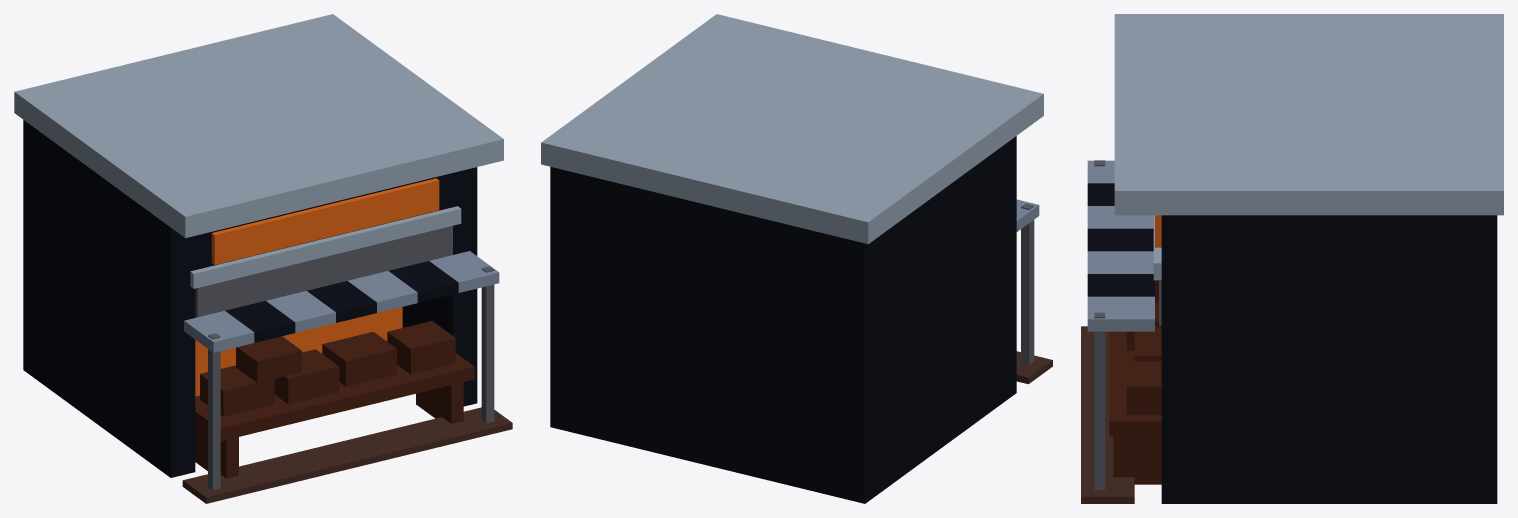
Rendered from shop4.obj.
The picture shows the model from 3 angles, left to right: view 1: azimuth 30°, elevation 25°; view 2: azimuth 150°, elevation 25°; view 3: azimuth 270°, elevation 25°; orthographic projection. The views are drawn at different scales.
Visible parts, largest first — view 1: parapet, shell, crates, stall, pavement, shutter, sign, canopy-stripes-pale, shutter-box, canopy-stripes-dark, canopy-poles, interior; view 2: shell, parapet, canopy-poles, pavement; view 3: shell, parapet, canopy-stripes-pale, stall, pavement, canopy-stripes-dark, crates, canopy-poles.
Boxes of the visible parts, x1,y1,x2,y2 form: parapet: (14,14,503,237); shell: (23,120,477,477); crates: (200,321,455,416); stall: (195,353,474,478); pavement: (182,407,512,503); shutter: (195,226,452,317); sign: (211,178,439,264); canopy-stripes-pale: (184,251,499,352); shutter-box: (190,206,461,288); canopy-stripes-dark: (225,261,458,342); canopy-poles: (208,266,494,490); interior: (195,307,402,396); shell: (550,136,1016,503); parapet: (541,14,1043,244); canopy-poles: (1021,203,1034,364); pavement: (1016,351,1052,384); shell: (1161,215,1497,503); parapet: (1114,14,1503,215); canopy-stripes-pale: (1087,160,1154,331); stall: (1109,331,1161,484); pavement: (1081,326,1134,503); canopy-stripes-dark: (1087,183,1154,296); crates: (1126,280,1161,415); canopy-poles: (1094,160,1105,489).
Bounding box in the file's own units: 3.12 × 2.6 × 3.15.
